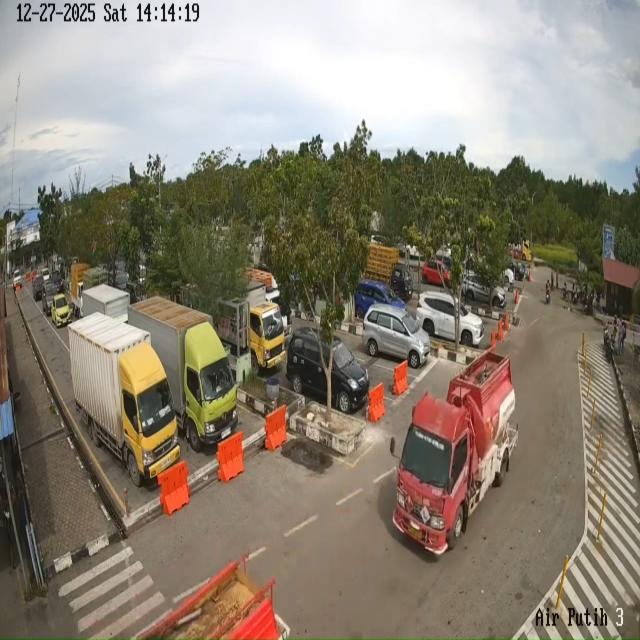Golongan IVA: (286, 327, 370, 413), (362, 304, 430, 369), (416, 291, 484, 347), (354, 279, 406, 320), (463, 272, 506, 308), (51, 294, 71, 328), (42, 280, 60, 316), (32, 274, 48, 301)
Golongan VB: (390, 350, 518, 554), (68, 313, 180, 486), (128, 296, 238, 452), (216, 281, 286, 374)
